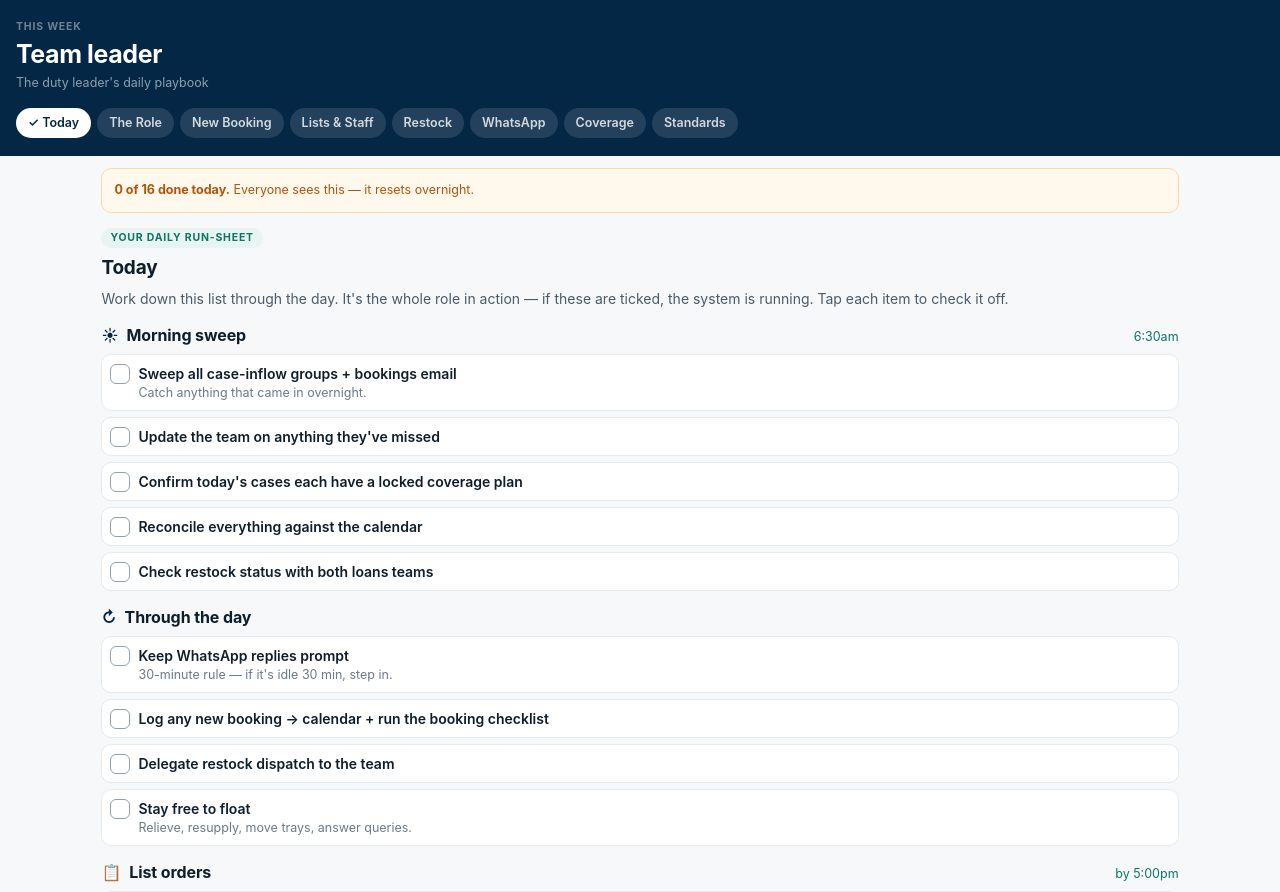
Test: reading the guide › moves between sections
This screenshot has width=1280, height=892.
Click the tab "Coverage": click(605, 123) [564,108,646,138]
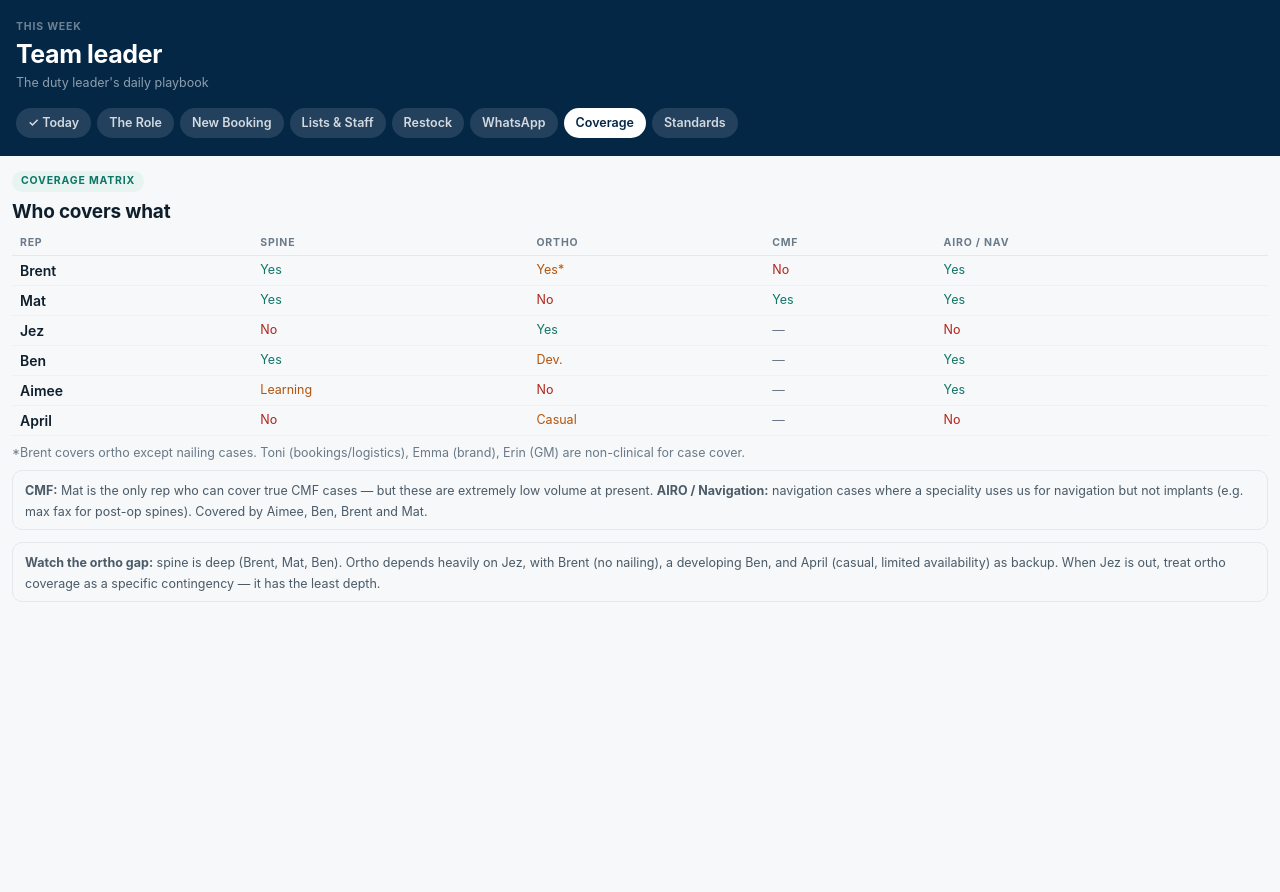
Now the heading "Who covers what" is shown, box [12,200,170,223]
Now the column heading "AIRO / Nav" is shown, box [936,232,1268,255]
